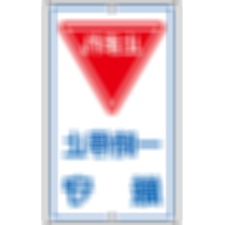Regulatory_sign_triangle: (59, 13, 161, 117)
